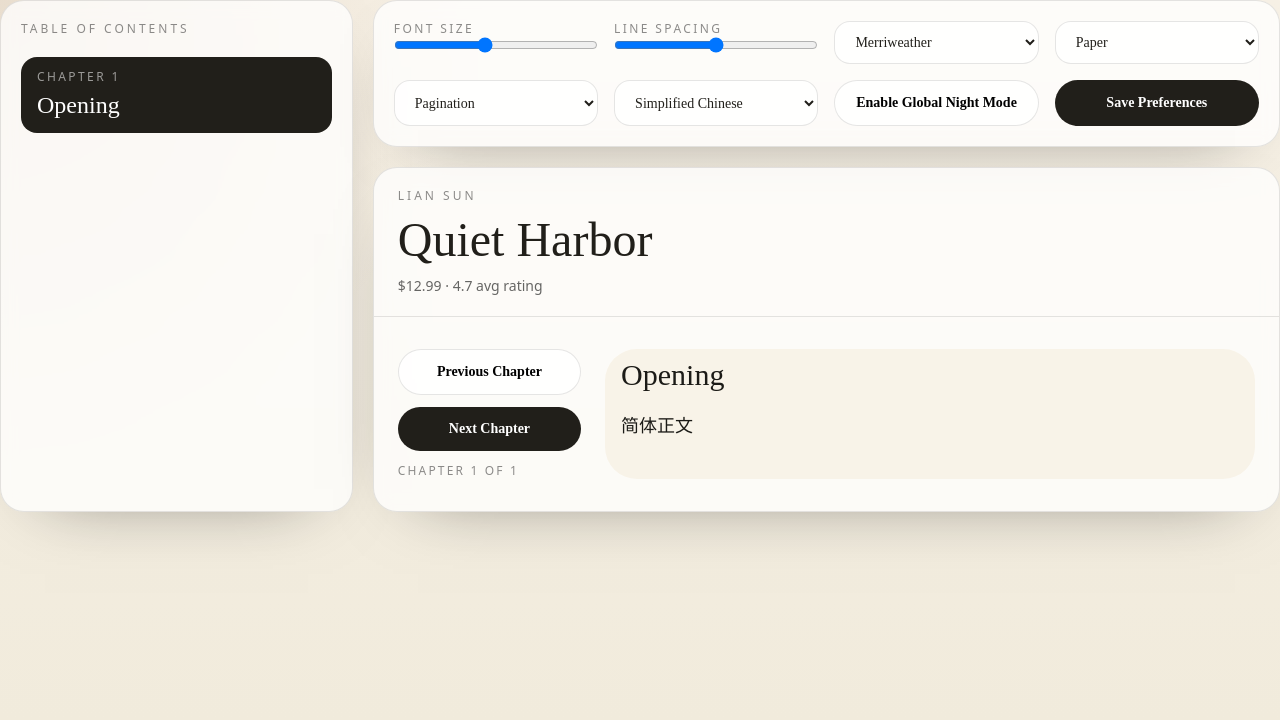
Test: ReaderPage › switches the visible chapter body immediately when Chinese mode changes
Expected: the text "简体正文" is shown, [621,416,693,436]
Select "Traditional Chinese" in the 4th dropdown showing "Simplified Chinese" at (716, 103), box [614,80,818,126]
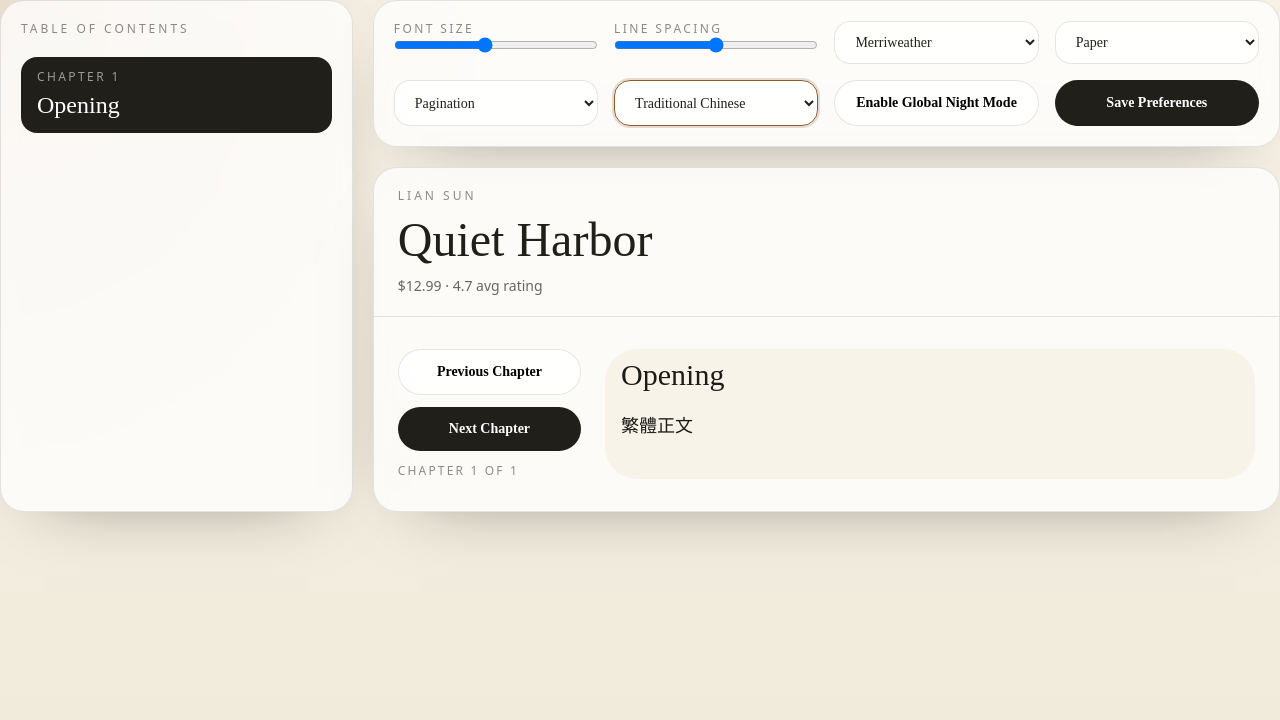
Expected: the text "繁體正文" is shown, [621,416,693,436]
